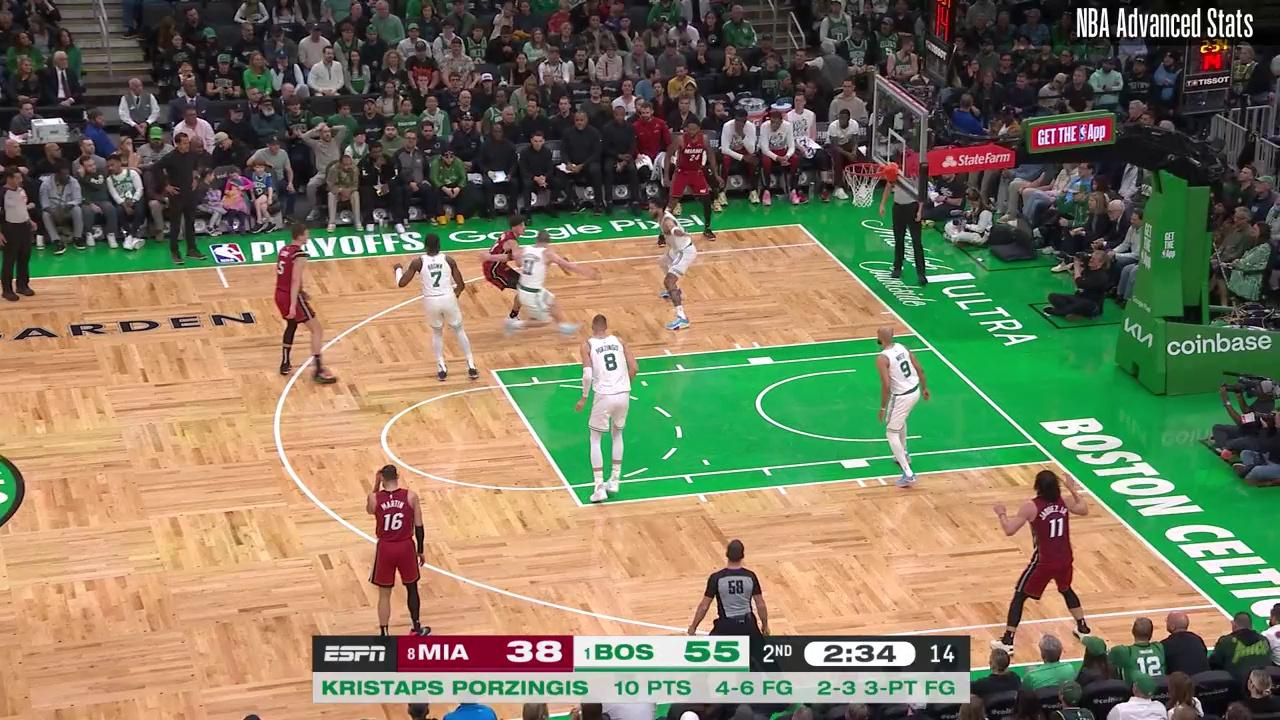3_dx: (1209, 599, 1222, 611)
3_sx: (814, 240, 822, 246)
b_sx: (796, 222, 803, 228)
free_adx: (577, 502, 584, 509)
free_asx: (489, 368, 496, 375)
free_bdx: (1050, 456, 1059, 465)
free_bsx: (913, 331, 920, 338)
mid_sx: (223, 284, 230, 291)
referee: (690, 538, 773, 638), (877, 155, 932, 285), (0, 166, 41, 309)
team: (395, 235, 480, 380), (578, 313, 640, 505), (484, 233, 598, 334), (870, 324, 932, 487), (646, 198, 699, 331)
team1: (993, 467, 1093, 652), (363, 461, 435, 638), (272, 221, 337, 389), (656, 118, 716, 245), (482, 214, 530, 330)
timer: (819, 637, 901, 669)
